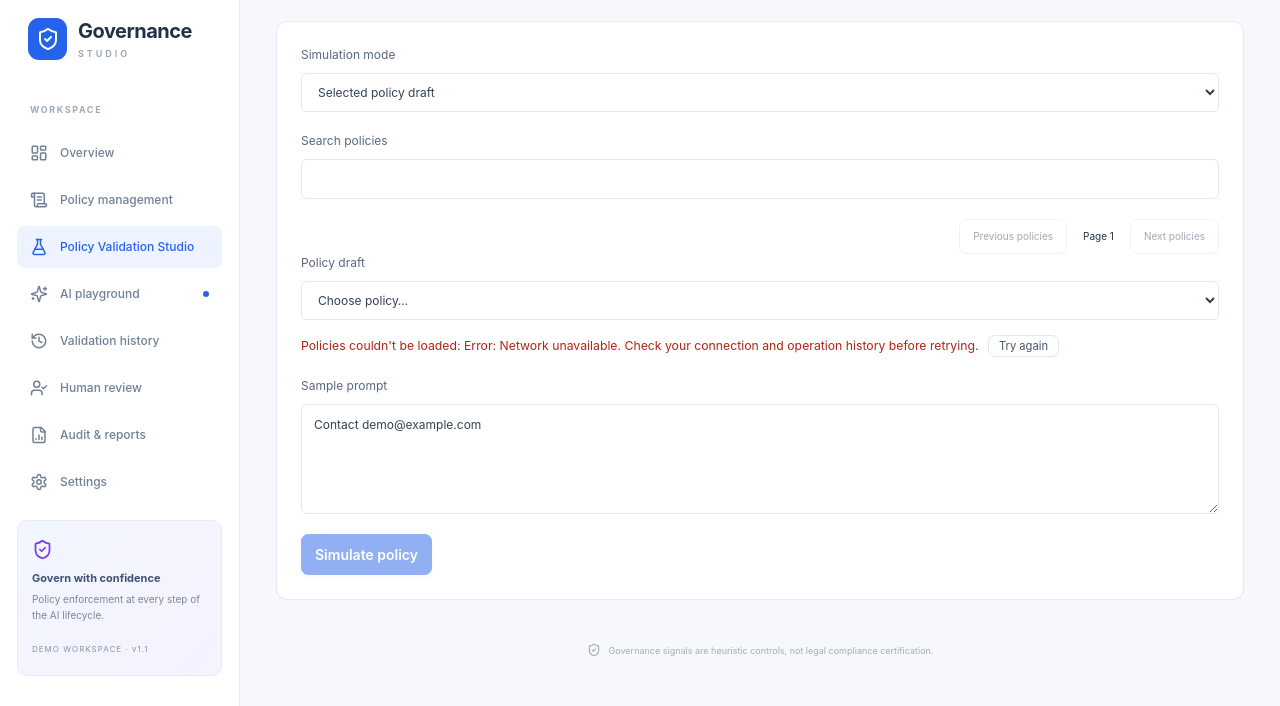
Test: reports policy-list and simulation failures next to the action without fabricating results
(page scrolled)
Expected: the text "Policies couldn't be loaded" shows "Network unavailable", [464, 338, 978, 353]
Step 1. Click the button "Try again" → (1024, 346), box [988, 335, 1059, 358]
(page scrolled)
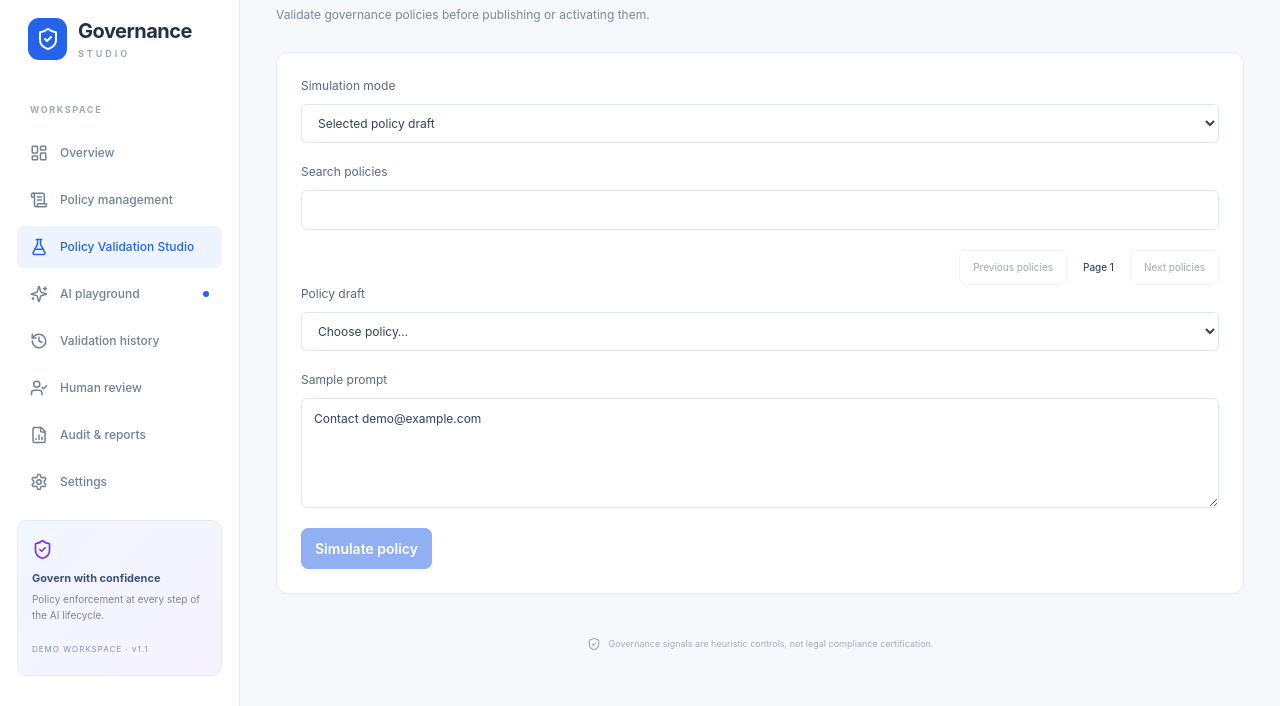
Now the text "Policies couldn't be loaded" is gone
Step 2. Select "Synthetic policy" in the dropdown labelled "Policy draft" → (760, 331), box [301, 312, 1219, 351]
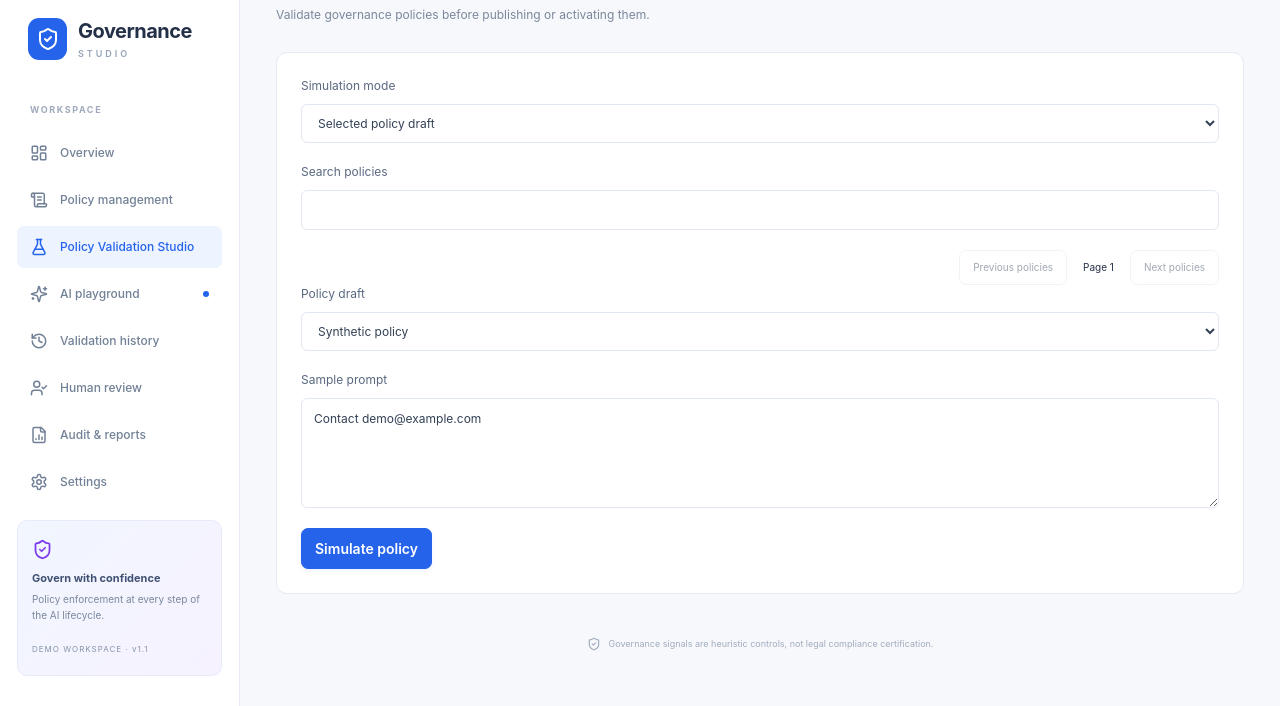
Step 3. Click the button "Simulate policy" → (366, 548), box [301, 528, 432, 569]
(page scrolled)
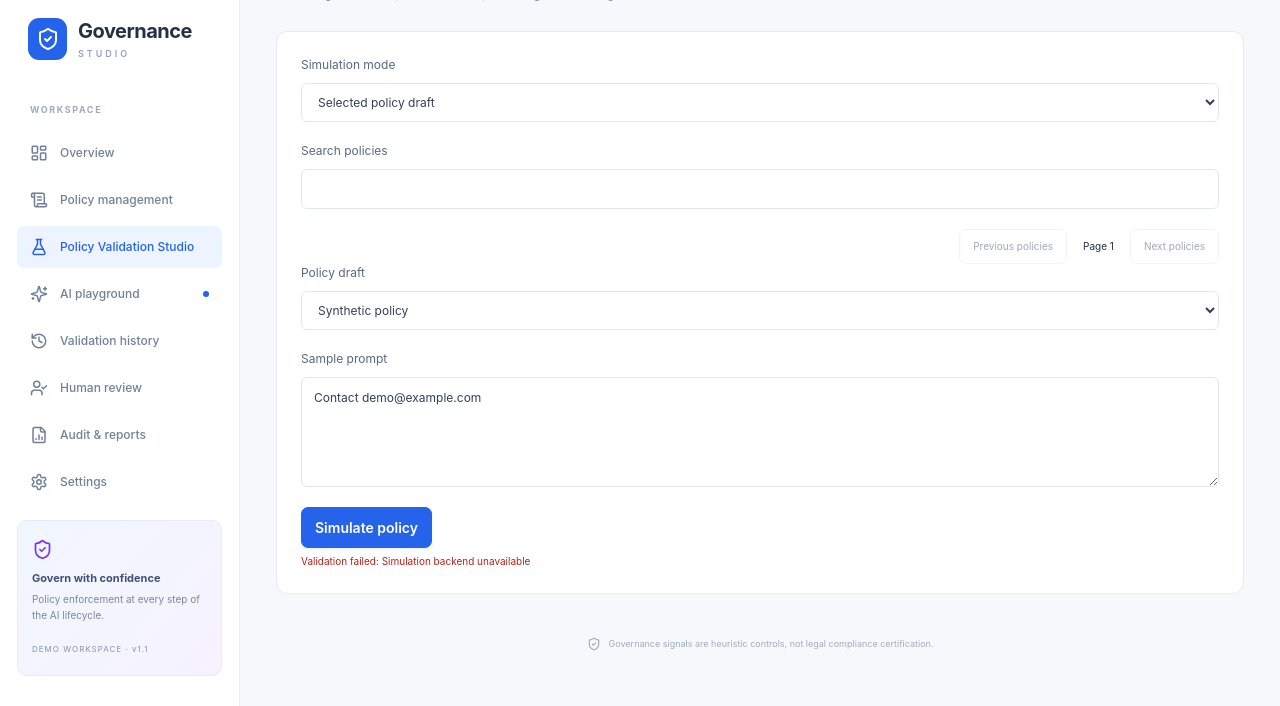
Now the text "Validation failed: Simulation backend unavailable" is shown, box [301, 555, 530, 567]
